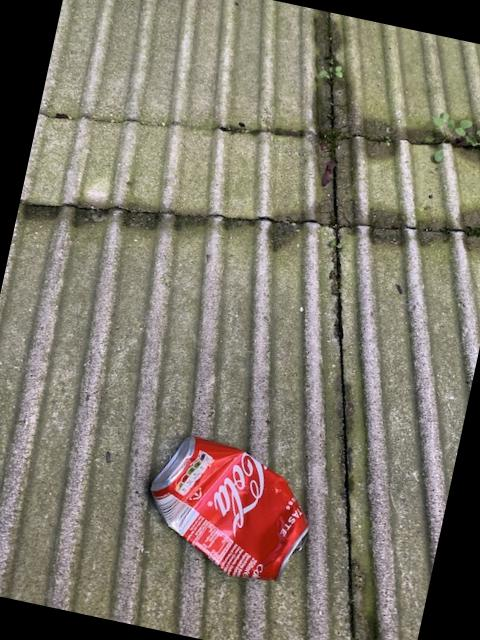metal: (152, 439, 309, 581)
